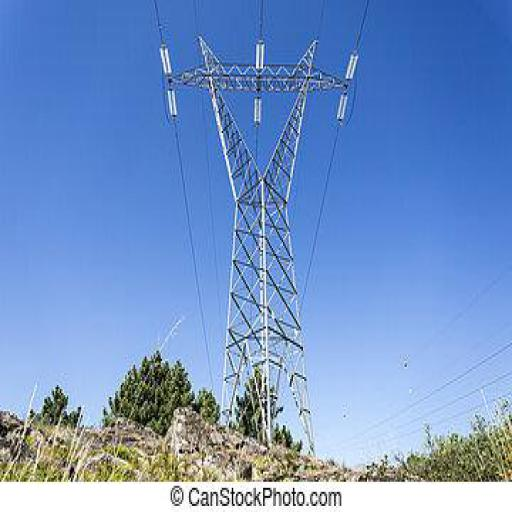wt_6: (169, 34, 347, 454)
